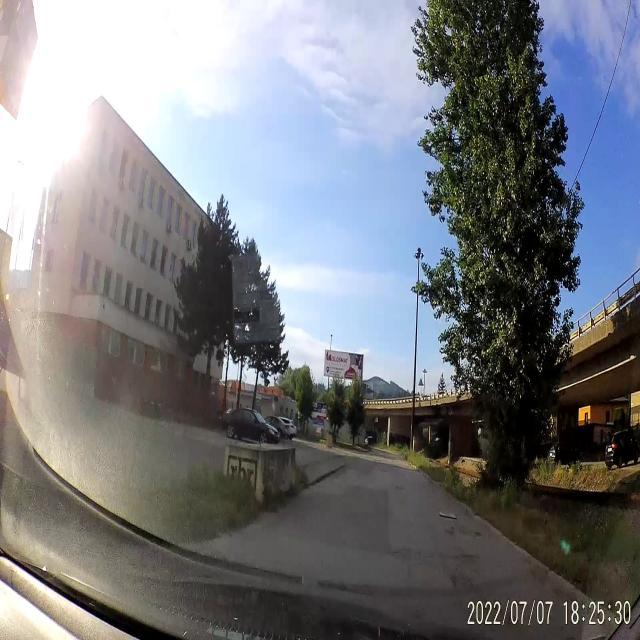Manhole: (437, 503, 458, 521)
Pothole: (388, 544, 430, 568), (446, 566, 479, 596), (446, 521, 484, 543), (449, 548, 482, 562), (396, 482, 406, 495), (378, 466, 389, 476)
